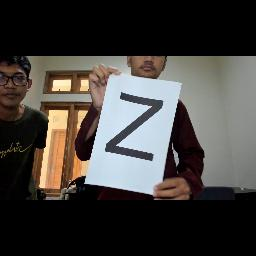z: (102, 89, 168, 165)
